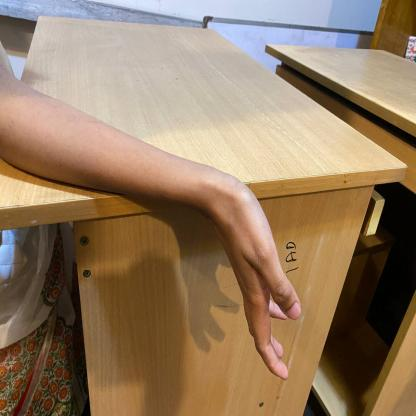hand: (0, 53, 306, 384)
